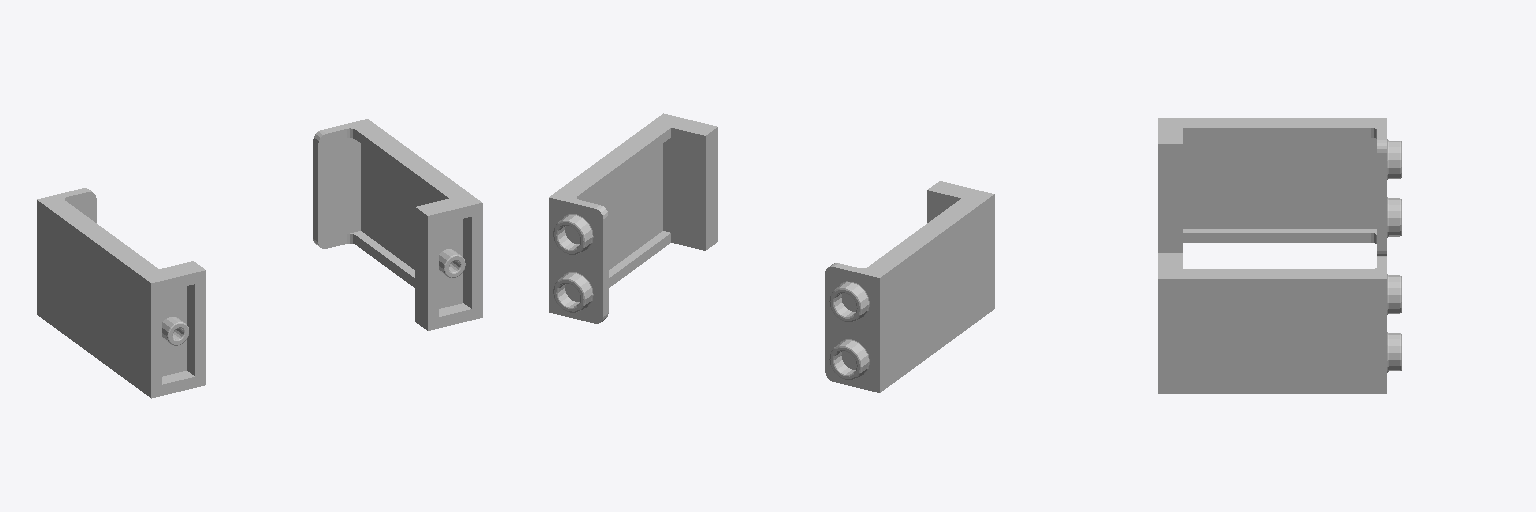
Rendered from fensterhinten_weiss.obj.
The picture shows the model from 3 angles: view 1: azimuth 30°, elevation 25°; view 2: azimuth 150°, elevation 25°; view 3: azimuth 270°, elevation 25°; orthographic projection.
Parts seen in each view (by area): view 1: Part.136, Part.137; view 2: Part.137, Part.136; view 3: Part.136, Part.137.
Boxes of the visible parts, box(x1,y1,x2,y2) form: Part.136: box(313, 119, 482, 330); Part.137: box(37, 188, 205, 398); Part.137: box(825, 181, 994, 392); Part.136: box(549, 113, 717, 323); Part.136: box(1158, 253, 1401, 393); Part.137: box(1158, 118, 1401, 255).
Bounding box in the file's own units: 47.92 × 15.92 × 30.58.